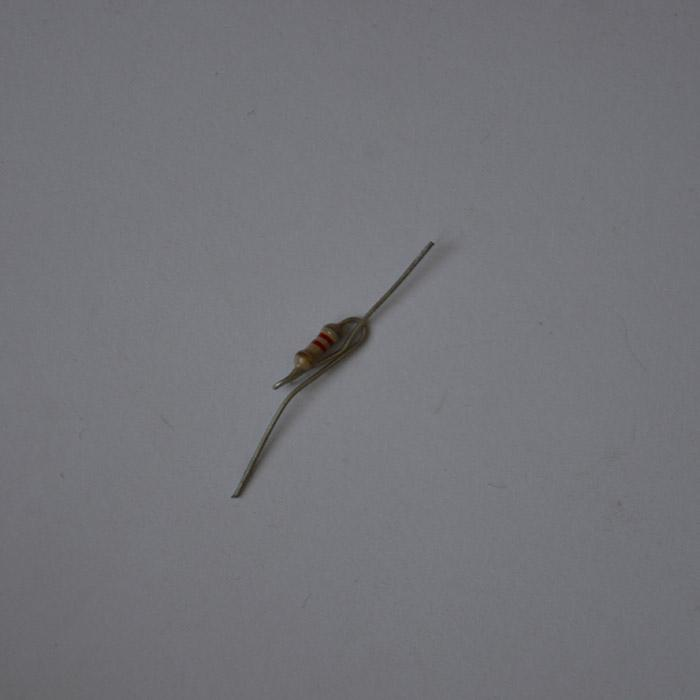resistor: (292, 323, 346, 373)
